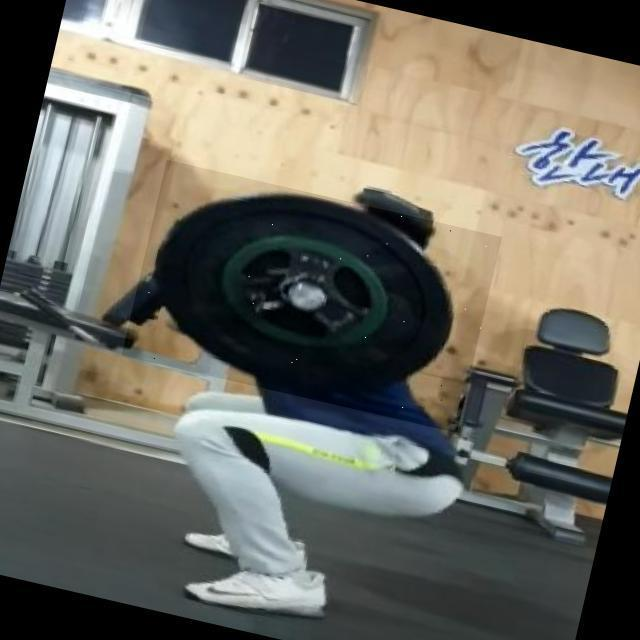barbell: (122, 161, 502, 434)
